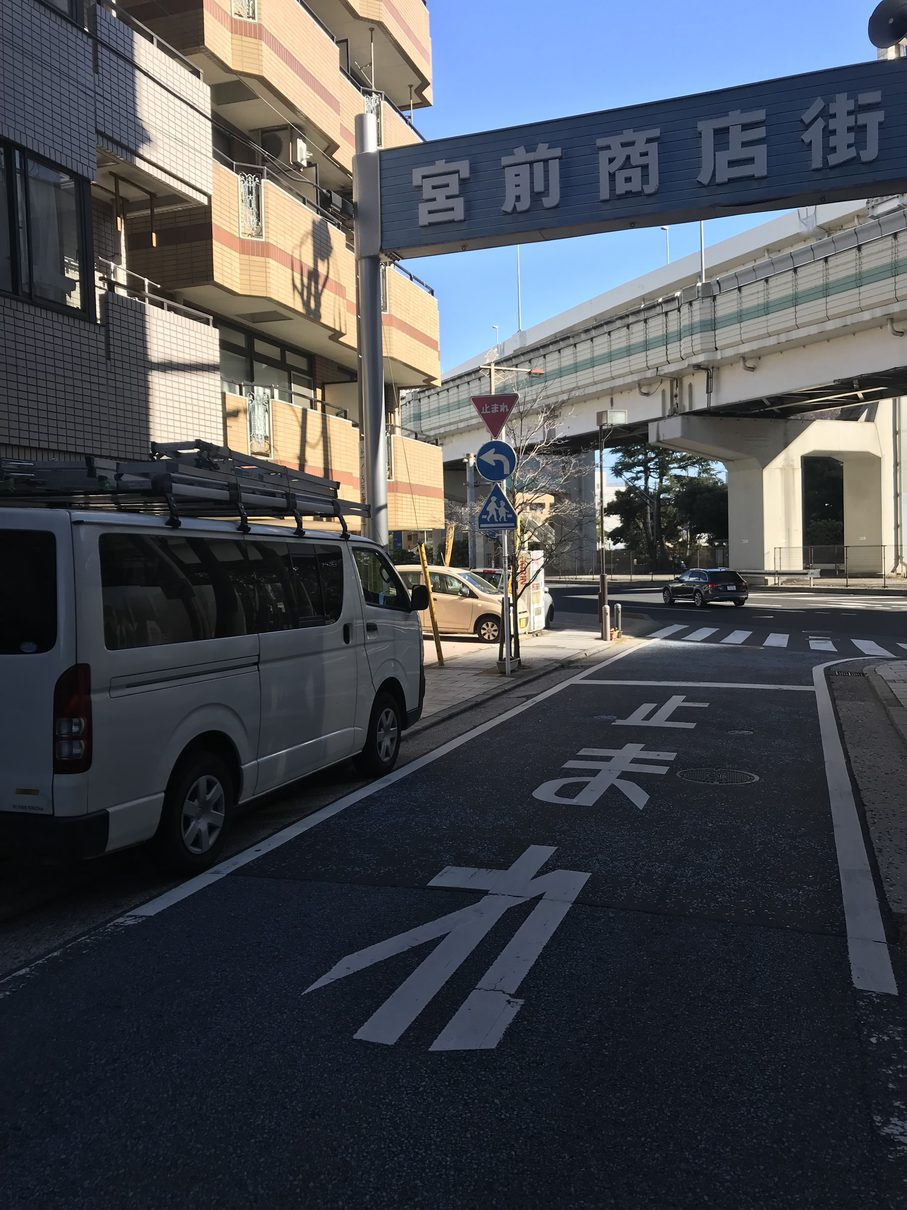stop_sign: (468, 392, 520, 439)
